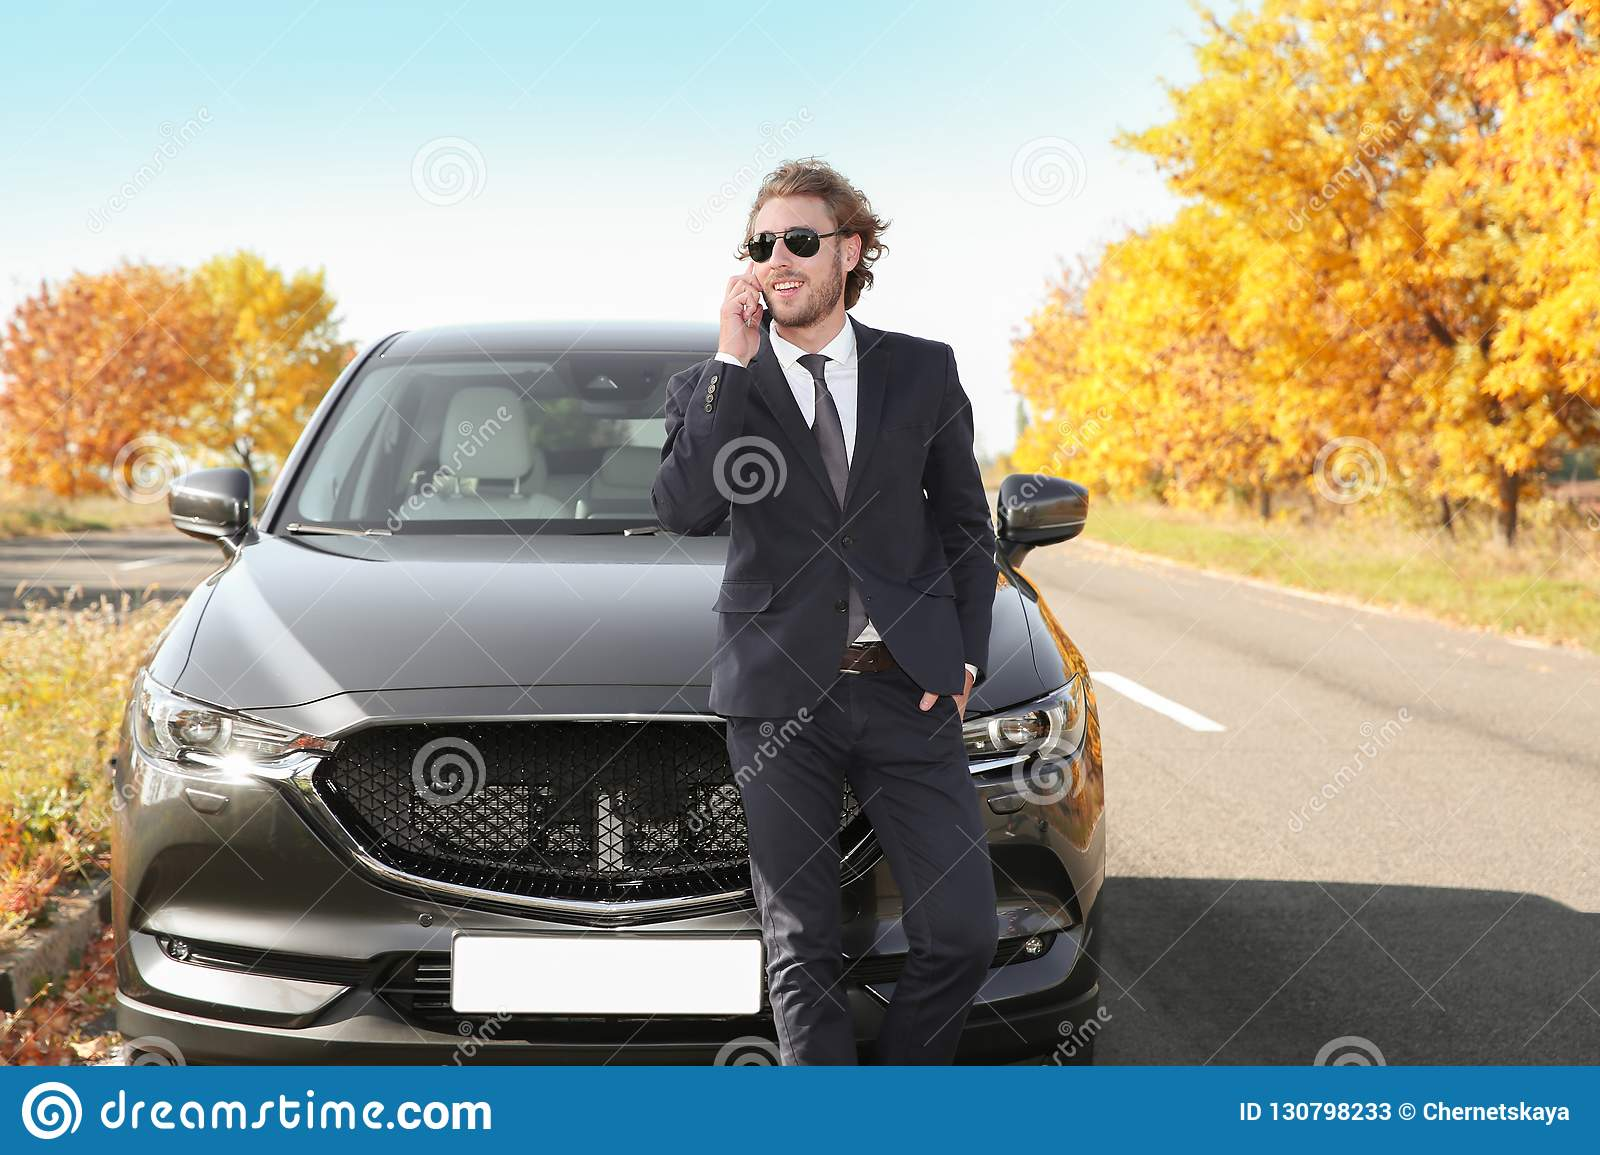phone: (745, 263, 758, 325)
talk: (718, 222, 829, 355)
